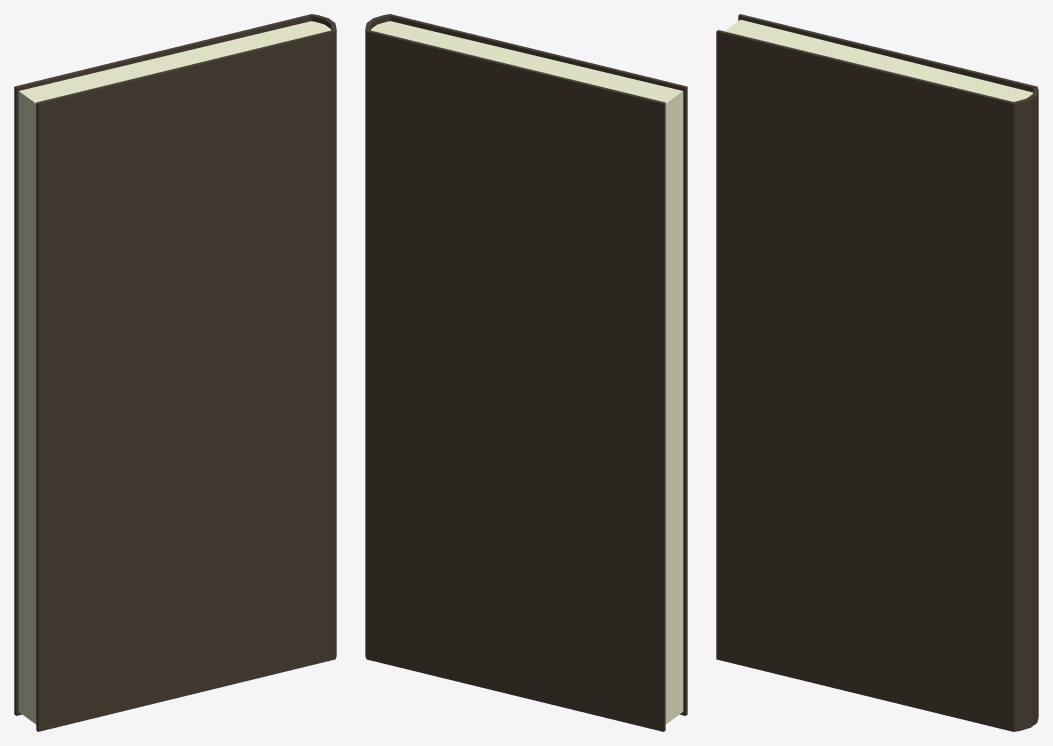
Rendered from newbook8.fbx.
The picture shows the model from 3 angles, left to right: view 1: azimuth 30°, elevation 25°; view 2: azimuth 150°, elevation 25°; view 3: azimuth 330°, elevation 25°; orthographic projection.
Visible parts, largest first — view 1: Book8; view 2: Book8; view 3: Book8.
Part boxes in pixels (left/top/right/bottom): Book8: left=14, top=14, right=336, bottom=731; Book8: left=365, top=14, right=687, bottom=731; Book8: left=716, top=14, right=1038, bottom=731.
Bounding box in the file's own units: 13.39 × 26.3 × 1.8.
